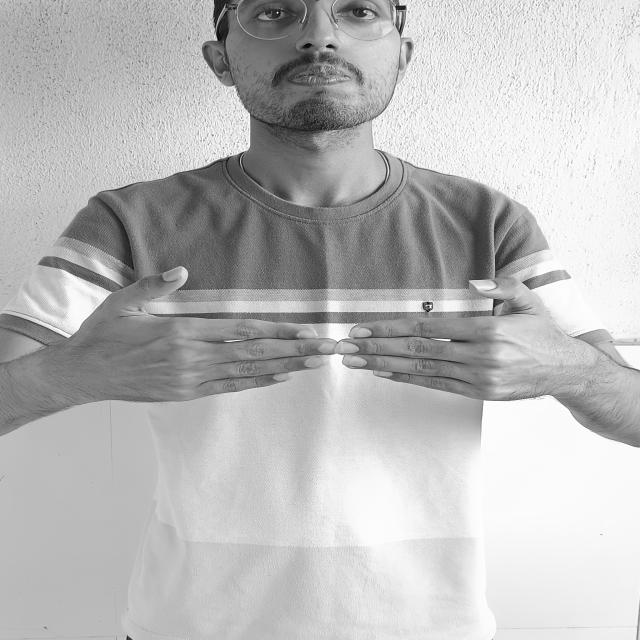Night: (57, 211, 605, 437)
